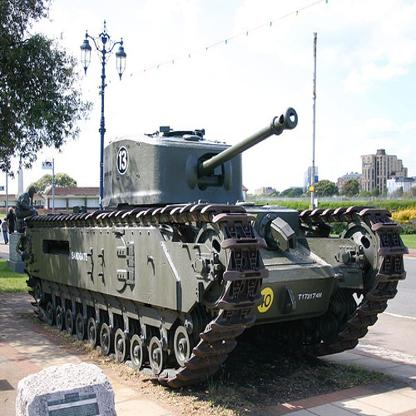Tank: (19, 106, 414, 390)
